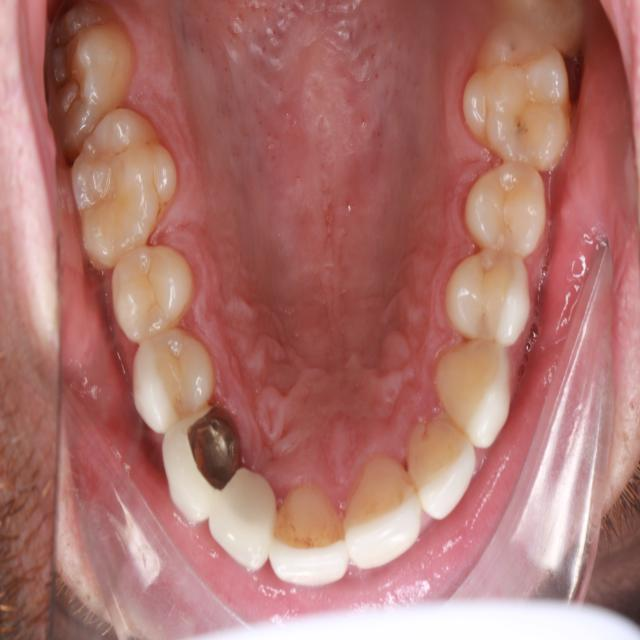tooth: (61, 104, 191, 291), (454, 14, 579, 180), (46, 4, 145, 172), (439, 233, 542, 367), (158, 401, 251, 545), (128, 314, 225, 447), (329, 441, 427, 571), (102, 238, 207, 359), (458, 153, 557, 276), (399, 400, 483, 535), (432, 334, 517, 467), (266, 475, 352, 590), (207, 452, 280, 581), (503, 4, 594, 50)
